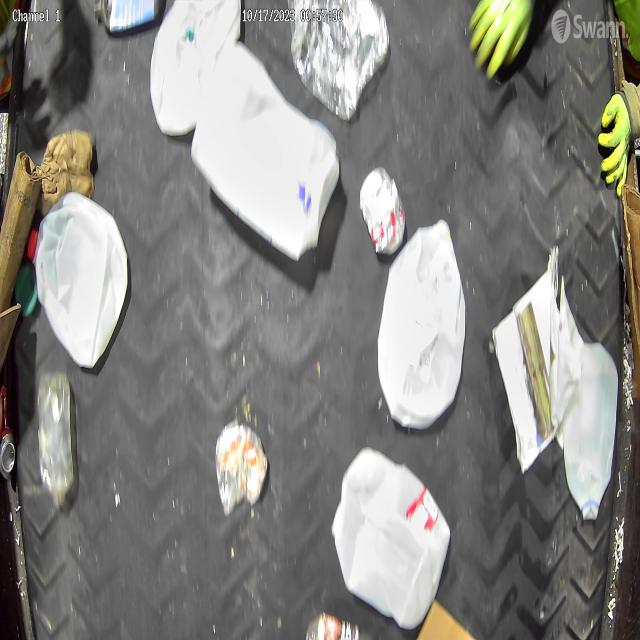can: (359, 164, 406, 256), (0, 386, 15, 477)
milk_jug: (192, 36, 343, 262), (334, 447, 452, 631), (379, 216, 468, 430), (27, 190, 130, 374), (150, 0, 242, 135), (558, 336, 618, 529)
plastic_bottle: (36, 372, 80, 510)
